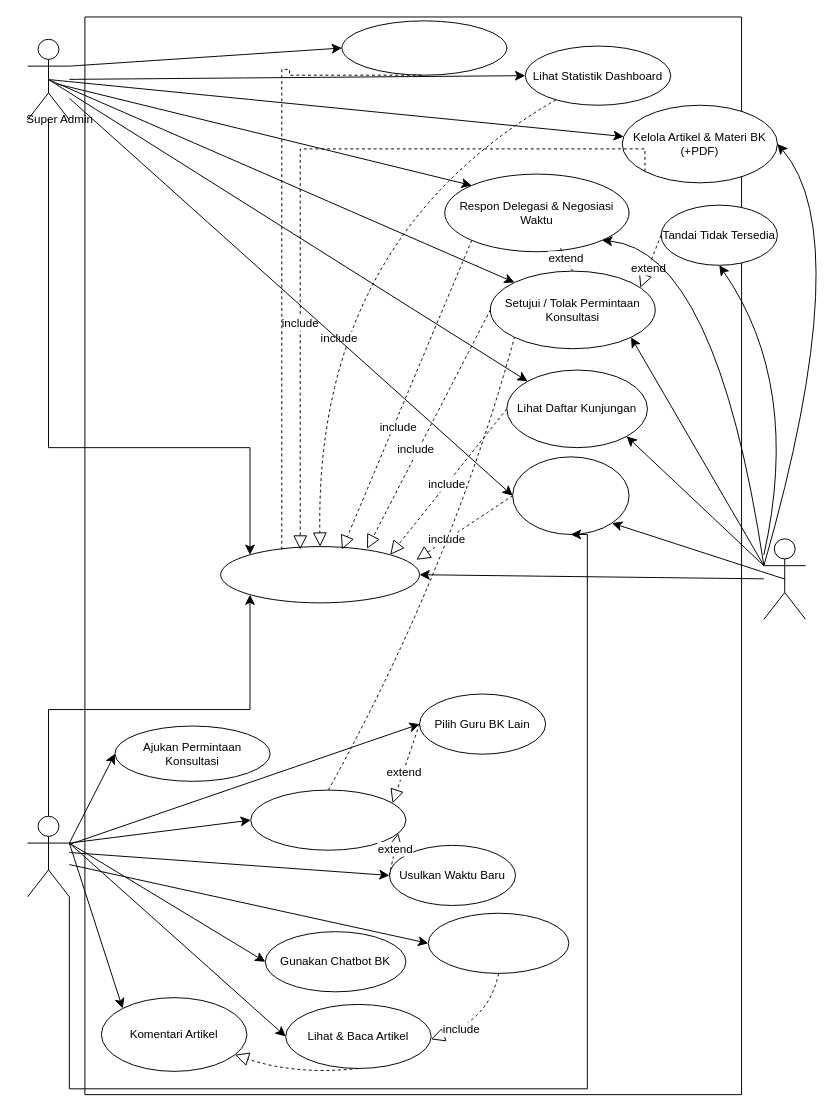
This 833x1116 diagram has some shape labels left out. The centre of each missing label's shape, as x and y in pixels:
"Autentikasi (Login/Register/Logout)" goes at [320,574].
"Download PDF Artikel" goes at [498,942].
"Guru BK" goes at [784,578].
"Kelola Admin & Data Siswa" goes at [424,47].
"Kelola Akun Pribadi" goes at [570,495].
"Lihat Status Permintaan Konsultasi" goes at [328,819].
"Siswa" goes at [48,856].
